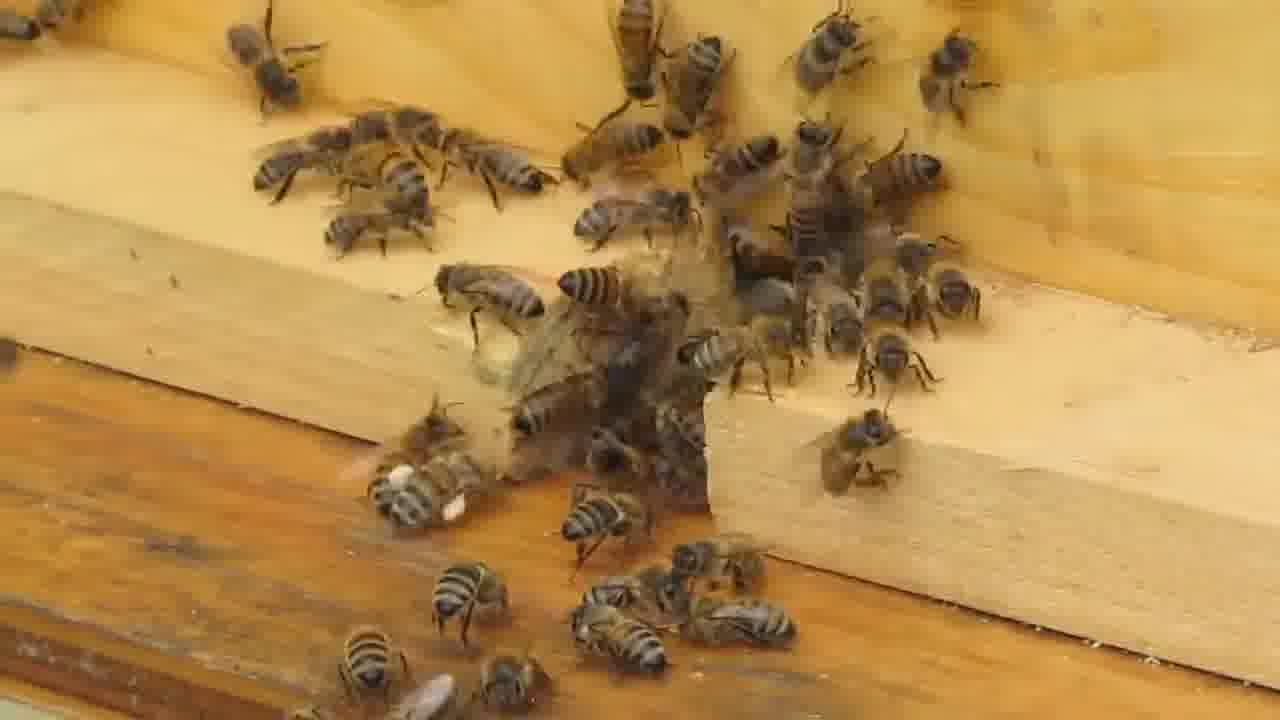pollen: (384, 444, 491, 542)
